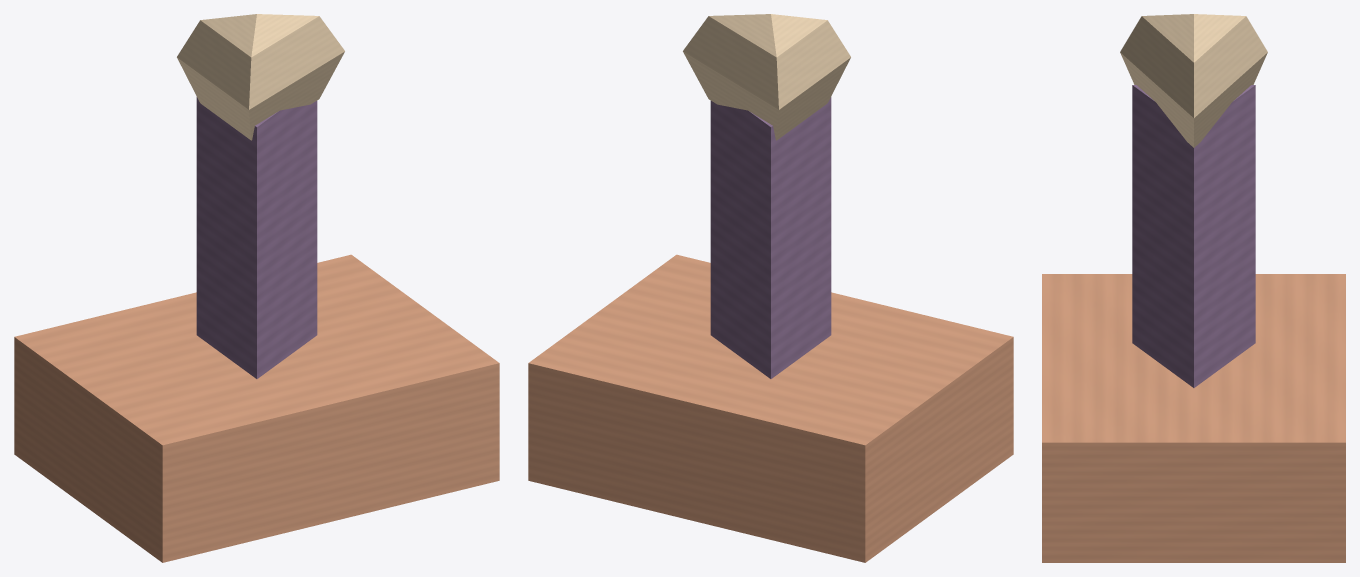
The model's file is atlas100-s083-a05.lod1.glb.
The picture shows the model from 3 angles, left to right: view 1: azimuth 30°, elevation 25°; view 2: azimuth 150°, elevation 25°; view 3: azimuth 270°, elevation 25°; orthographic projection. The views are drawn at different scales.
Visible parts, largest first — view 1: atlas100-s083-a05:part-000, atlas100-s083-a05:part-001, atlas100-s083-a05:part-002; view 2: atlas100-s083-a05:part-000, atlas100-s083-a05:part-001, atlas100-s083-a05:part-002; view 3: atlas100-s083-a05:part-000, atlas100-s083-a05:part-001, atlas100-s083-a05:part-002.
Boxes of the visible parts, x1,y1,x2,y2 form: atlas100-s083-a05:part-000: (14, 254, 499, 562); atlas100-s083-a05:part-001: (196, 97, 317, 378); atlas100-s083-a05:part-002: (177, 14, 344, 140); atlas100-s083-a05:part-000: (528, 254, 1013, 562); atlas100-s083-a05:part-001: (710, 97, 831, 378); atlas100-s083-a05:part-002: (683, 14, 850, 140); atlas100-s083-a05:part-000: (1042, 274, 1345, 562); atlas100-s083-a05:part-001: (1132, 85, 1255, 387); atlas100-s083-a05:part-002: (1120, 14, 1267, 147).
Size of the model in its own units: 0.4586 by 0.5897 by 0.3494.
3 materials, 3 textured.
